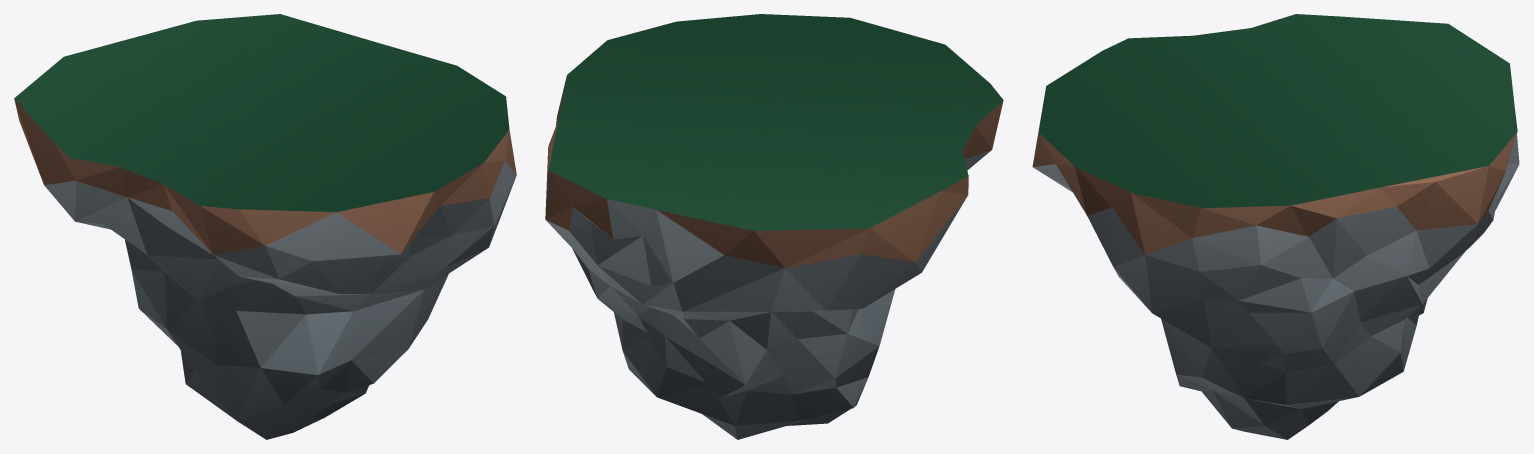
Rendered from island big.fbx.
3 views of the same model, side by side, from view 1: azimuth 30°, elevation 25°; view 2: azimuth 150°, elevation 25°; view 3: azimuth 270°, elevation 25° (orthographic). The views are drawn at different scales.
Parts seen in each view (by area): view 1: Cube.002; view 2: Cube.002; view 3: Cube.002.
Part boxes in pixels (box(x1,y1,x2,y2)): Cube.002: box(14, 14, 516, 439); Cube.002: box(545, 14, 1003, 439); Cube.002: box(1032, 14, 1519, 439).
Bounding box in the file's own units: 1544 × 1155 × 1636.
